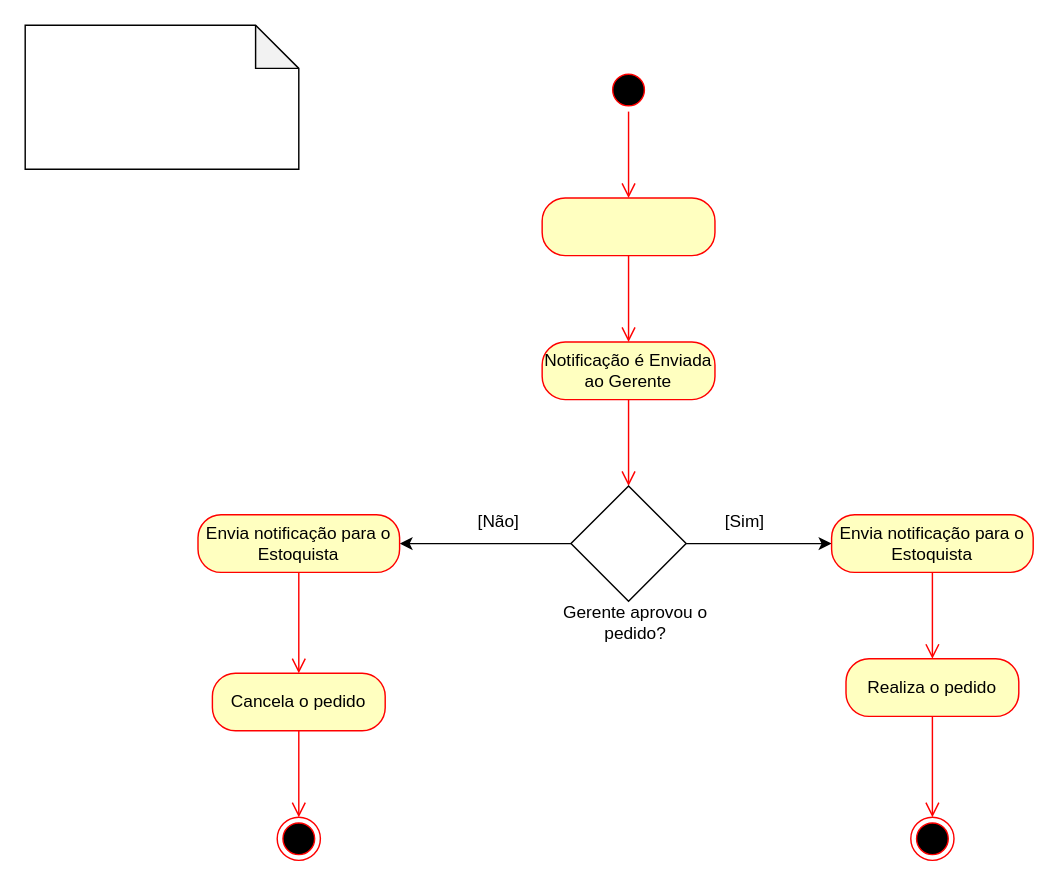
Some shapes in this 1058 by 886 pixel diagram are drawn without their labels. The centre of each missing label's shape, as x and y in pixels:
"Diagrama de Atividade Processo de um Pedido de compra de Estoque" goes at (x=161, y=96).
"Estoquista criar pedido de compra" goes at (x=628, y=226).
